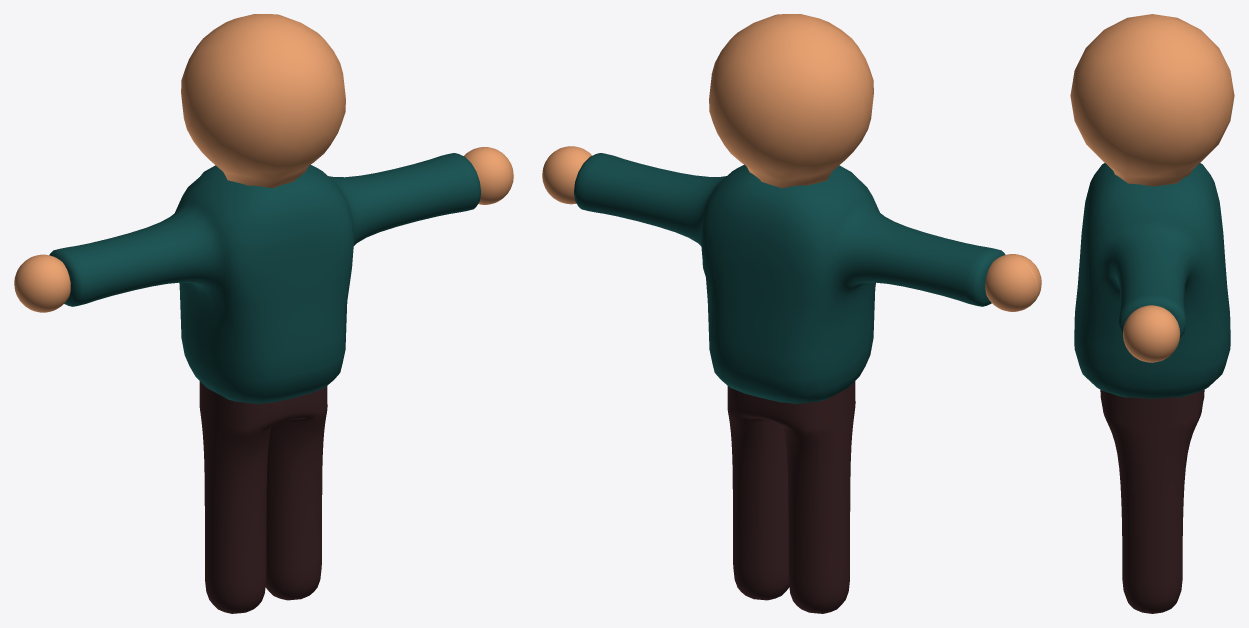
File: ModelRefernce.obj
3 views of the same model, side by side, from view 1: azimuth 30°, elevation 25°; view 2: azimuth 150°, elevation 25°; view 3: azimuth 270°, elevation 25° (orthographic).
Parts seen in each view (by area): view 1: Cube_Cube.001, Cube.001_Cube, Icosphere, Sphere; view 2: Cube_Cube.001, Cube.001_Cube, Icosphere, Sphere; view 3: Cube_Cube.001, Icosphere, Cube.001_Cube, Sphere.
Boxes of the visible parts, <box> form: Cube_Cube.001: <box>49,153,480,403</box>; Cube.001_Cube: <box>199,381,327,613</box>; Icosphere: <box>181,14,345,188</box>; Sphere: <box>14,147,513,312</box>; Cube_Cube.001: <box>574,153,1005,403</box>; Cube.001_Cube: <box>727,381,855,613</box>; Icosphere: <box>709,14,873,188</box>; Sphere: <box>542,146,1041,311</box>; Cube_Cube.001: <box>1074,163,1230,398</box>; Icosphere: <box>1070,14,1234,186</box>; Cube.001_Cube: <box>1100,389,1204,613</box>; Sphere: <box>1123,305,1180,362</box>.
Bounding box in the file's own units: 7.84 × 8.89 × 2.3.
1 material, 1 textured.
